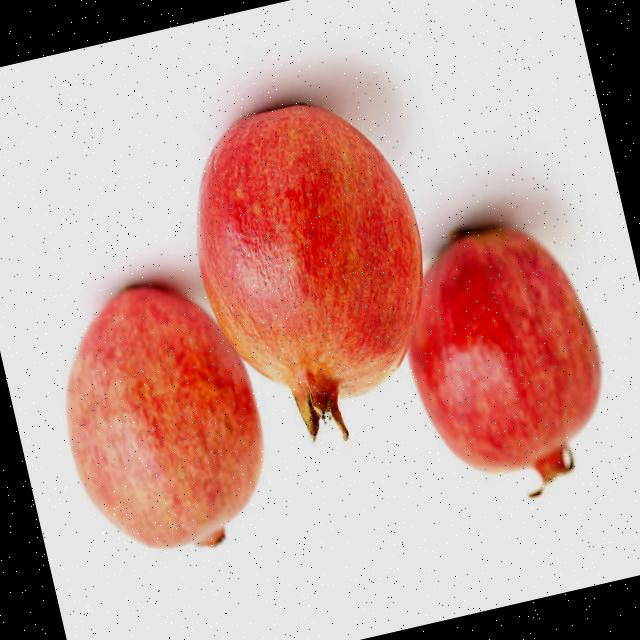Ripe: (164, 73, 458, 462), (379, 199, 632, 530), (34, 258, 284, 572)
